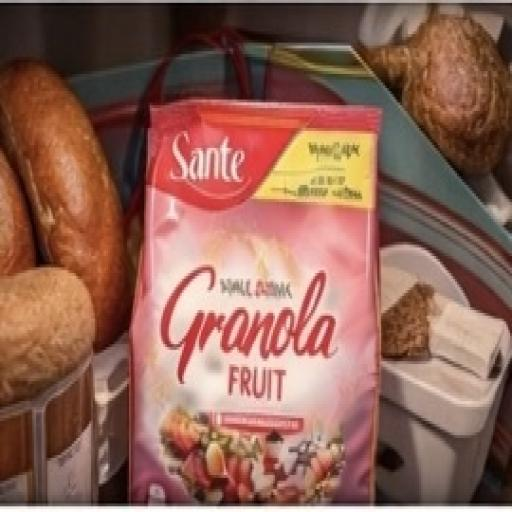granola: (121, 85, 419, 512)
